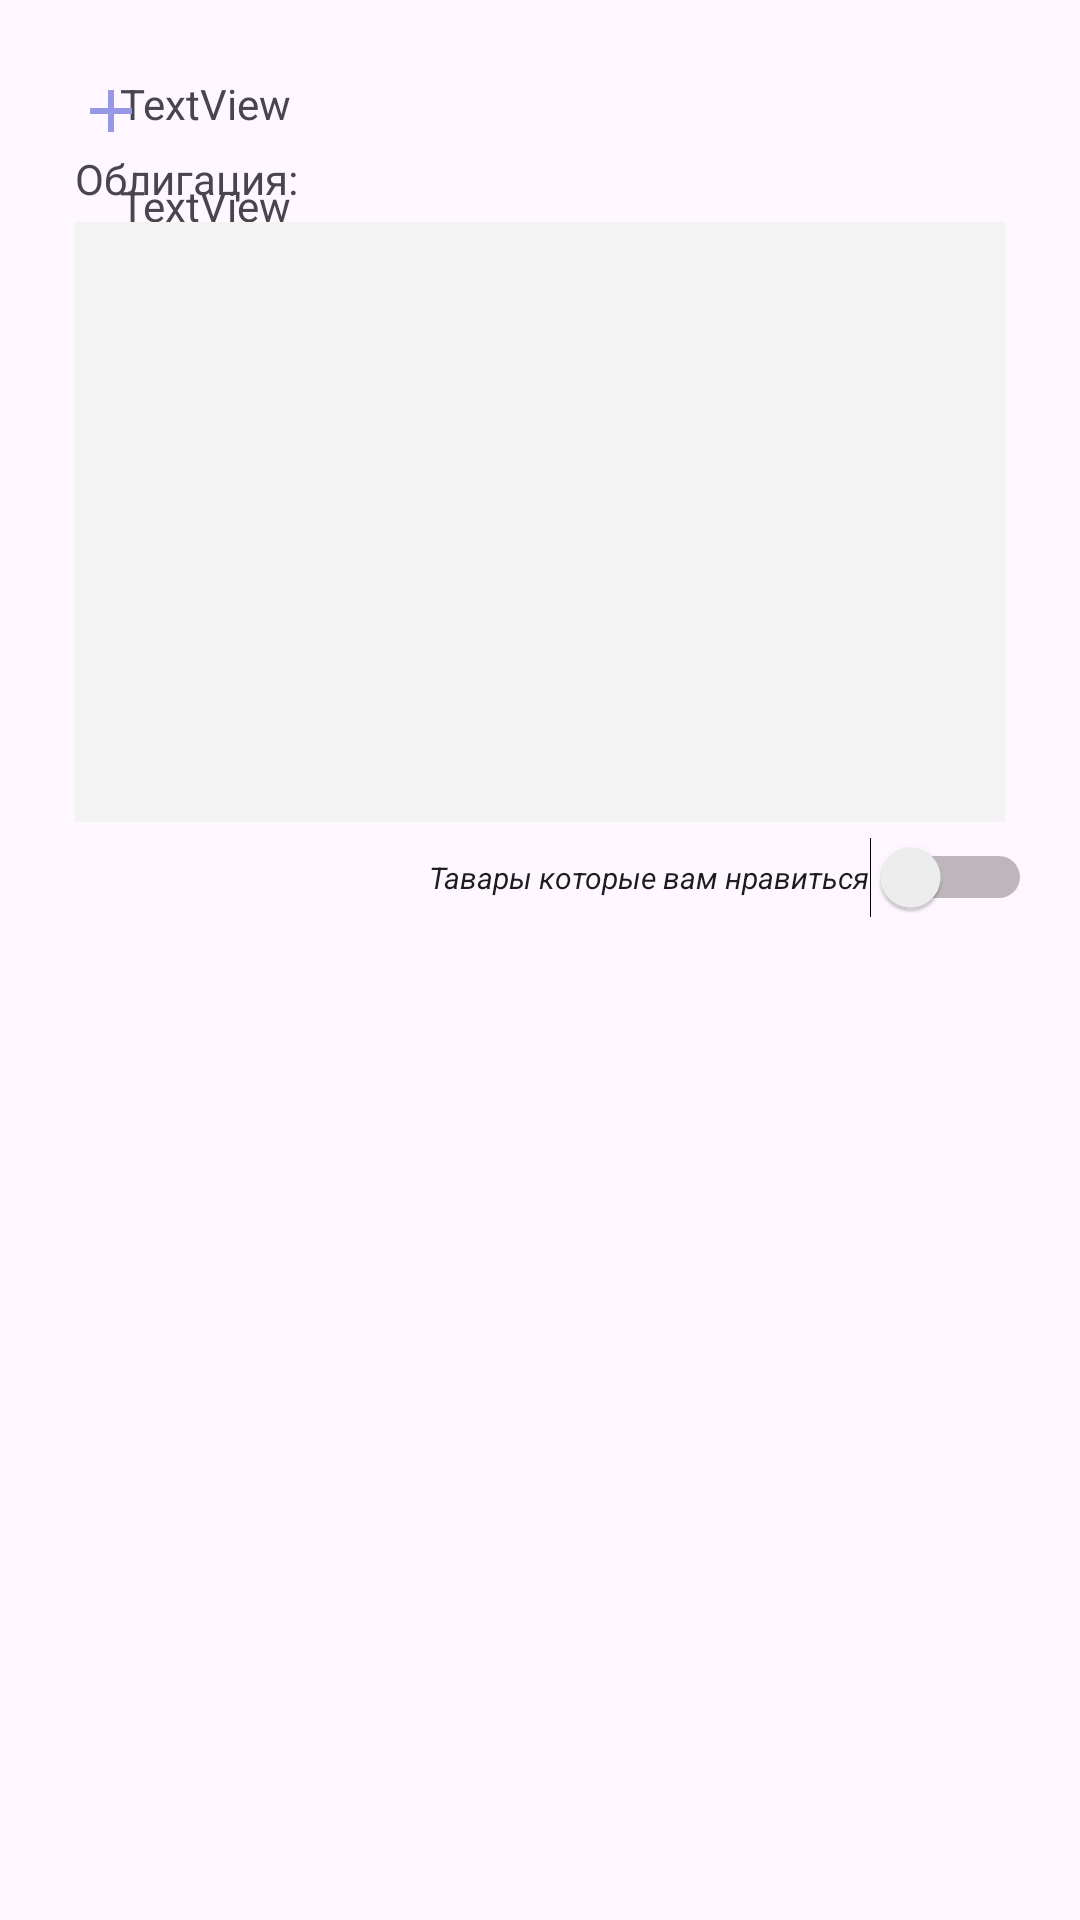

Icon bounding boxes for this 1080 x 1920 phone screenshot, format (x1, y1, x2, y2):
add: (90, 90, 144, 132)
